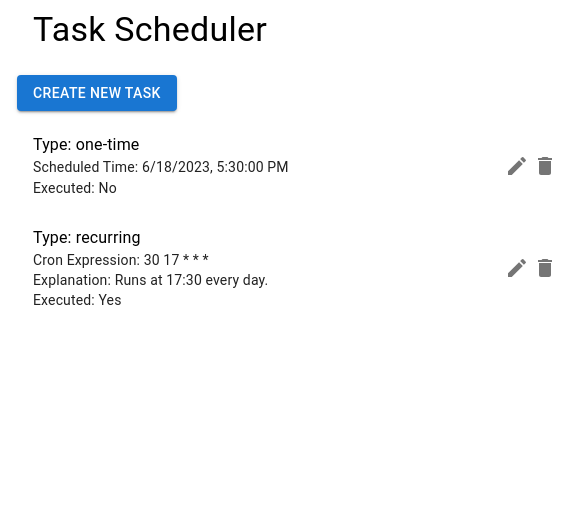
Test: TaskList Component › handles editing a task
Click the button named "edit" in the row of "Type: one-time" at (517,166), box [497,146,537,186]
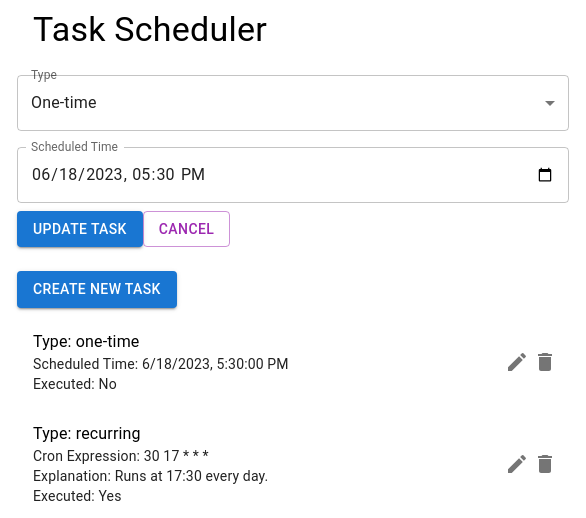
expect the button "Update Task" is shown: met, box [17,211,143,248]
